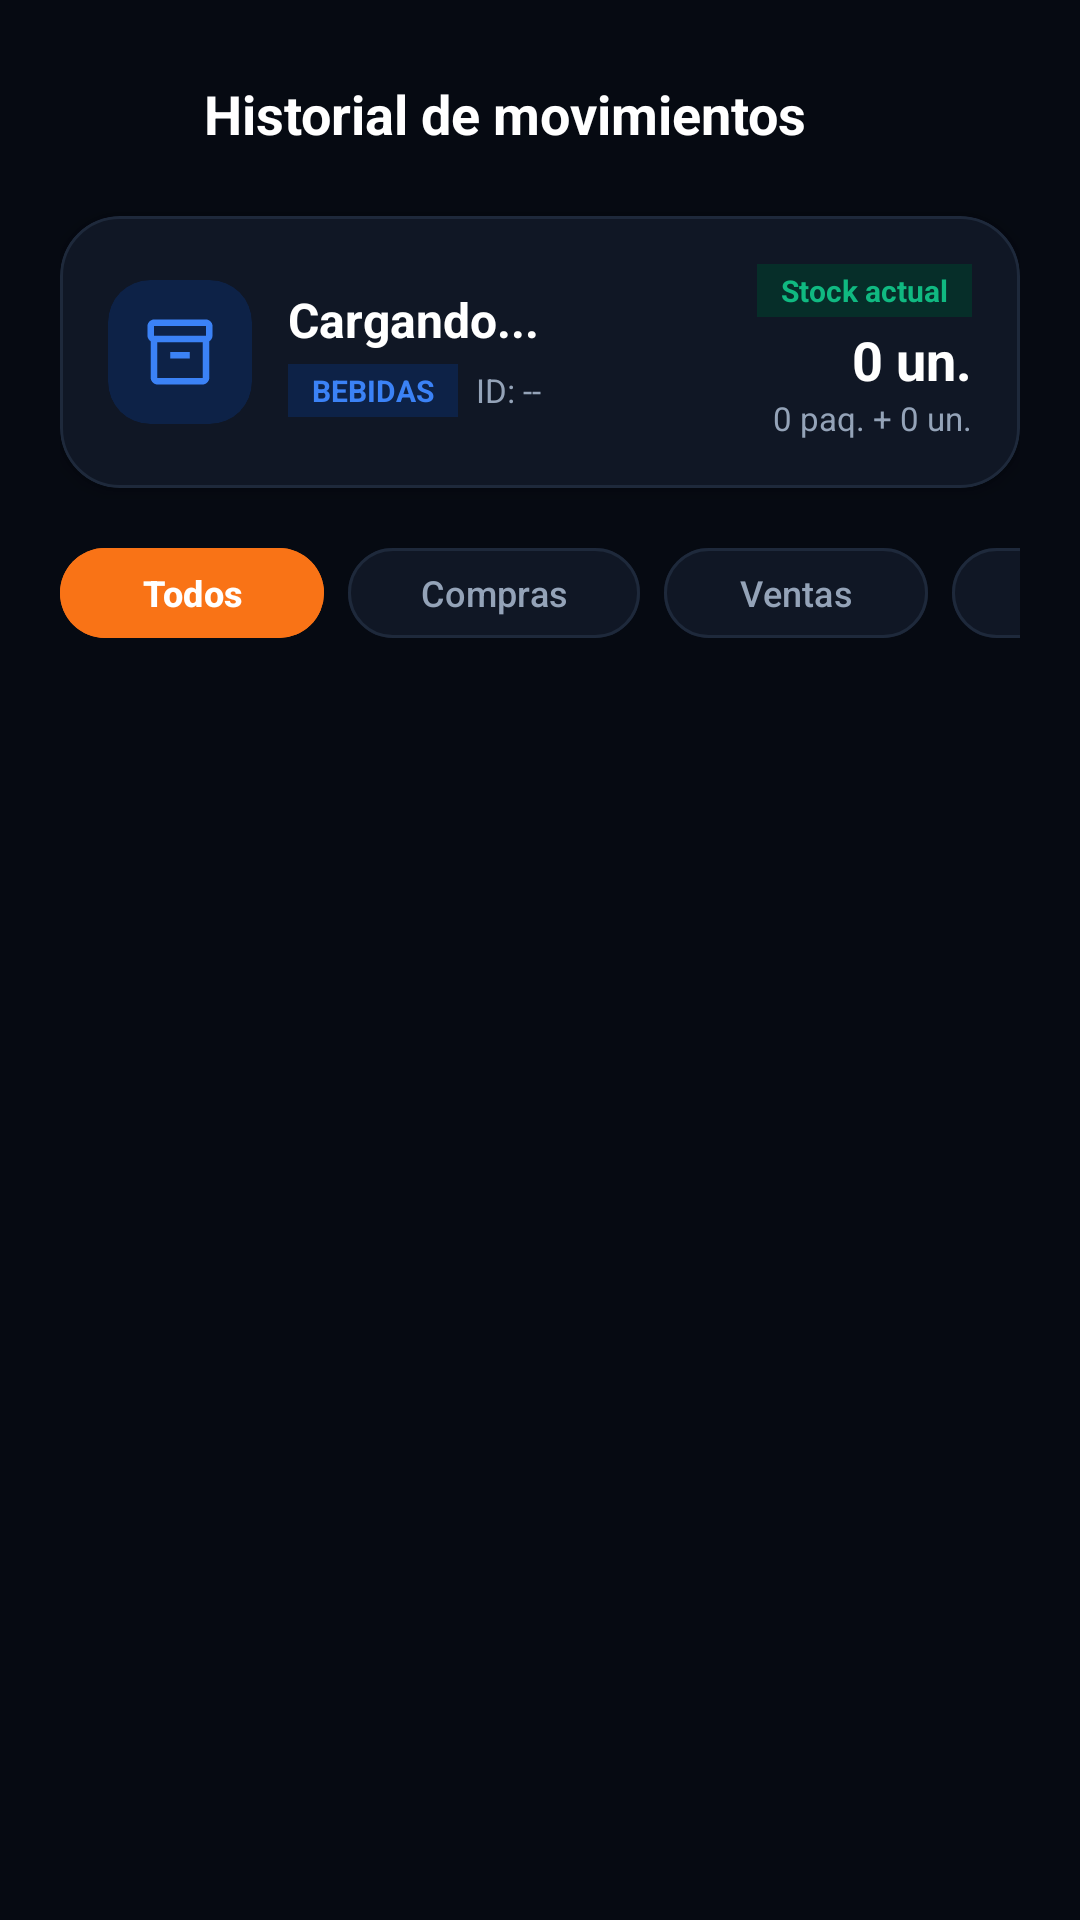

Locate icon controls on the screen. Image size 1080w x 1920h, boxes as (x1, y1, x2, y2).
Producto: (147, 319, 213, 385)
